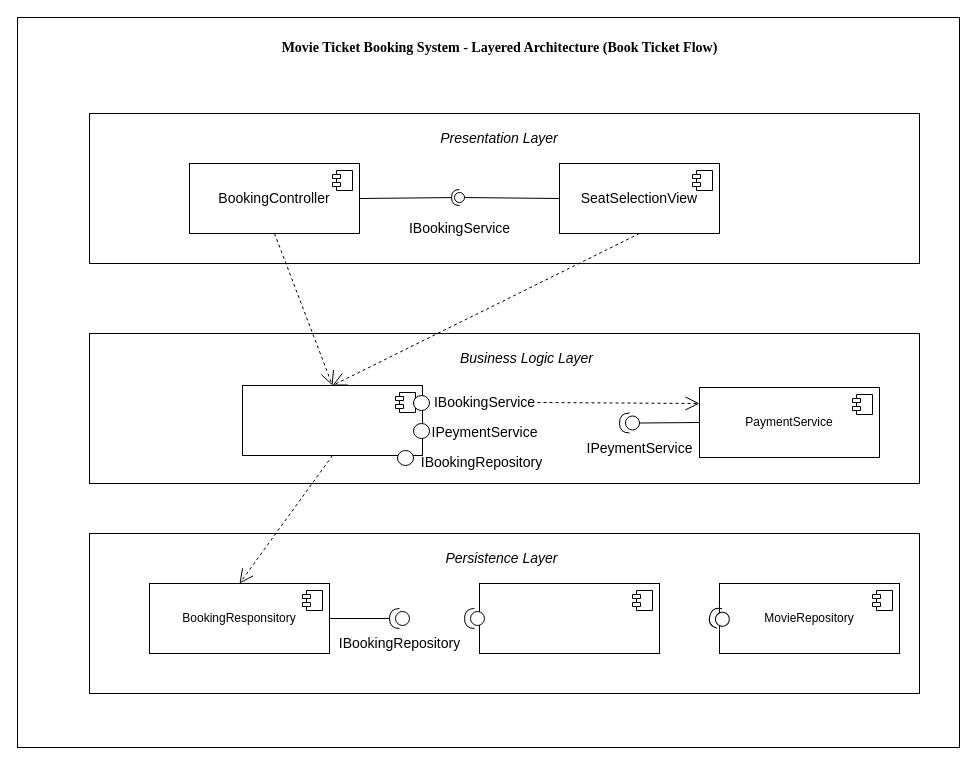
Some shapes in this 977 by 765 pixel diagram are drawn without their labels. The shapes that lost their labels are listed below. From the top down, each one's box as (x1, y1, x2, y2) in pixels, then its label:
(242, 384, 422, 456): BookingService
(478, 582, 660, 654): SeatRepository
